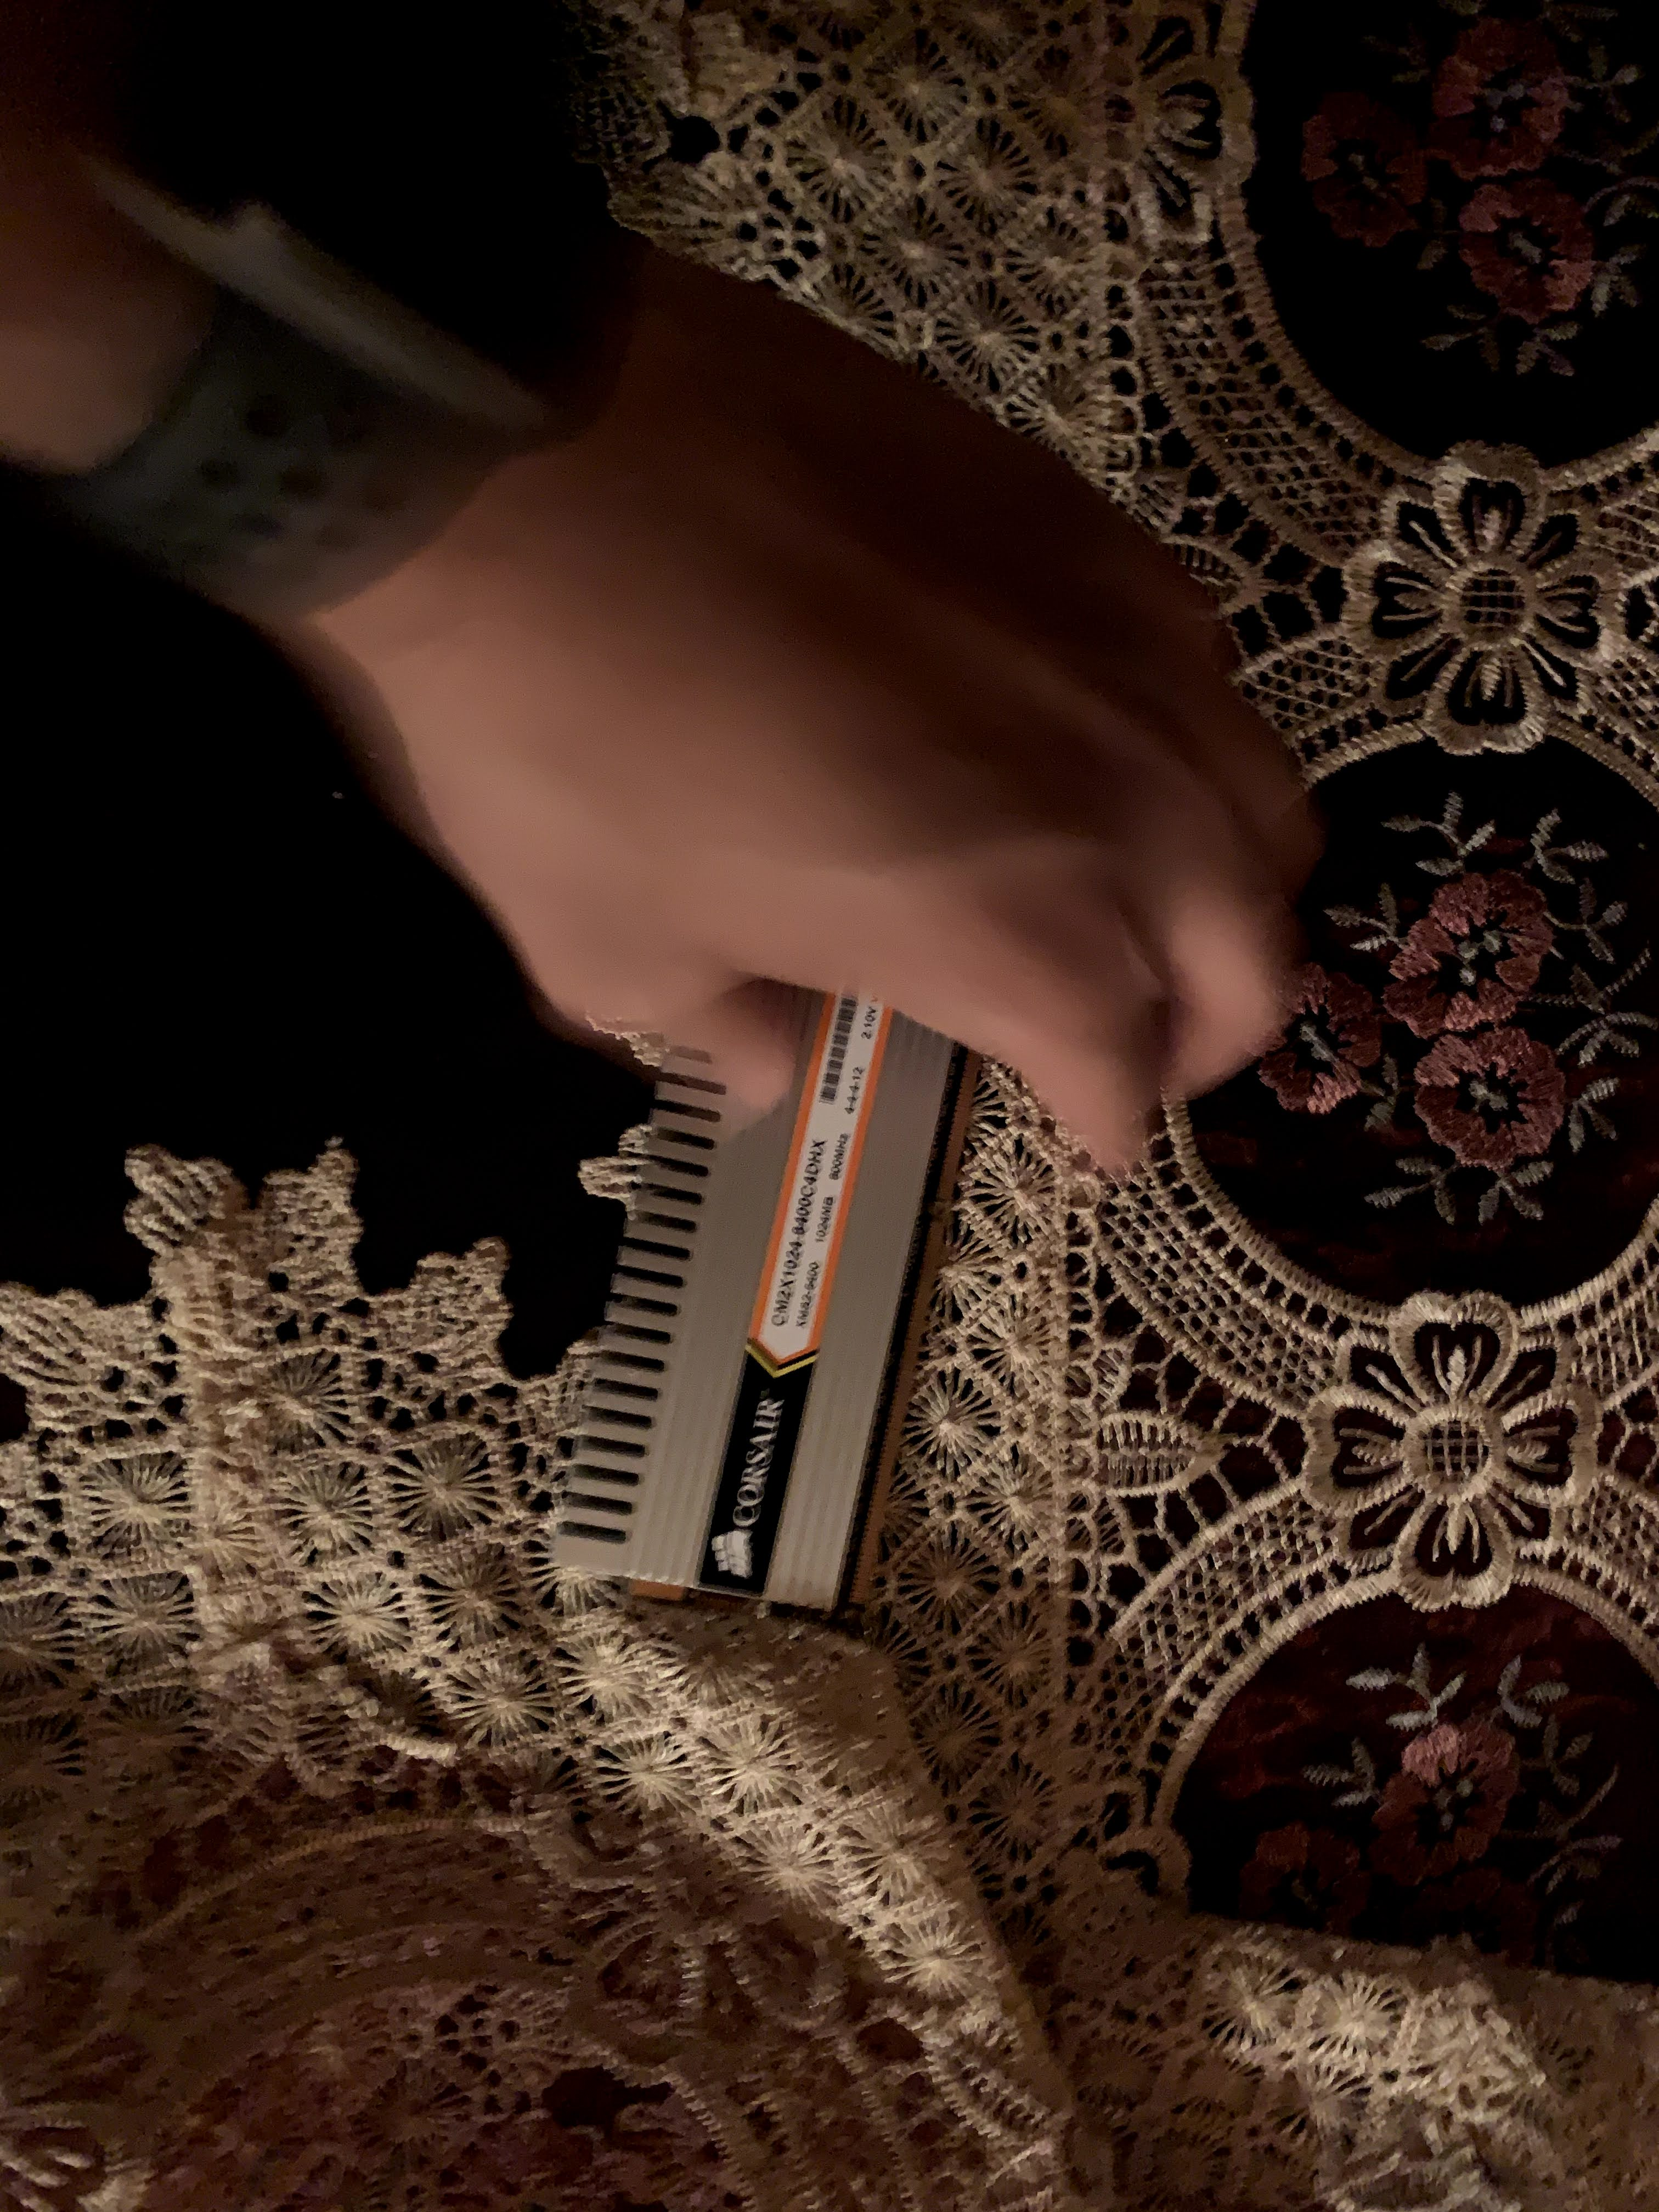Space-debris-medium: (547, 942, 1047, 1635)
